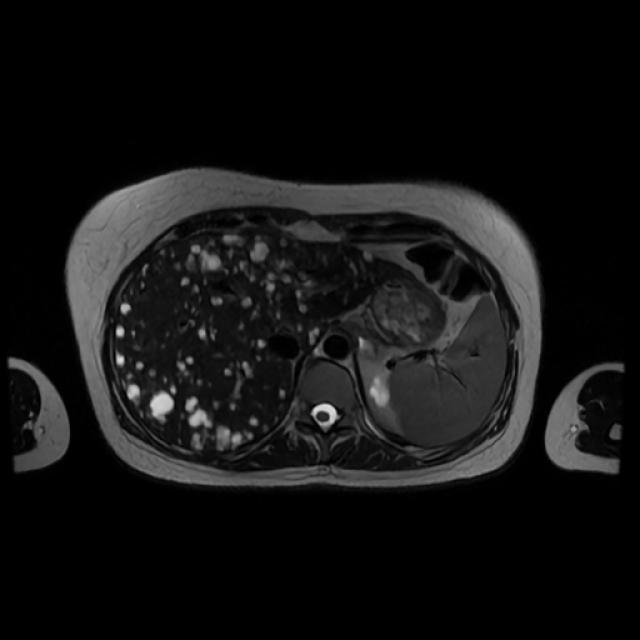sol: (370, 375, 389, 408)
